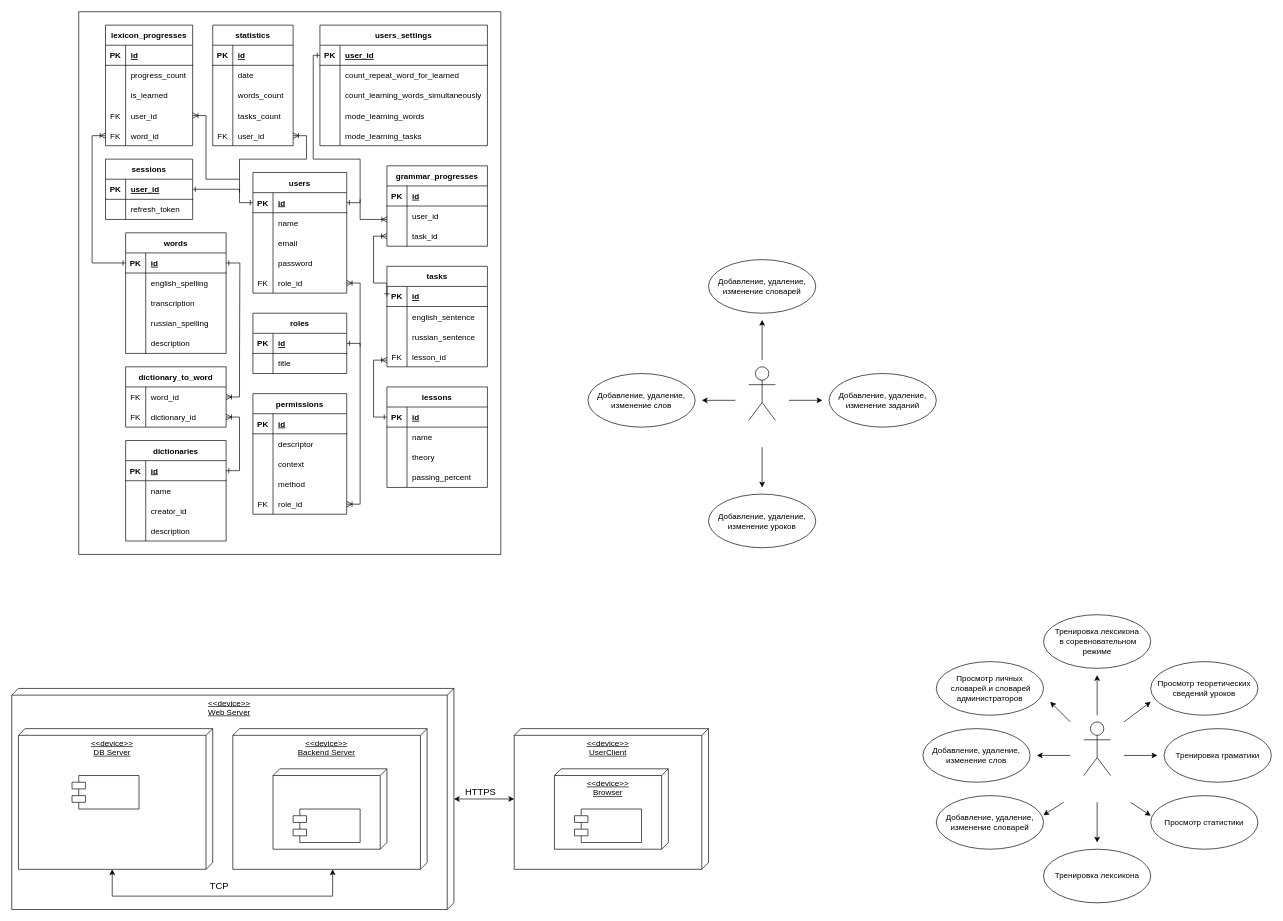
Some shapes in this 1283 by 921 pixel diagram are drawn without their labels. Here are the shapes that lost their labels. From the top down, the centre of each, then its label:
(x=762, y=393): Администратор
(x=1097, y=748): Авторизованный пользователь
(x=105, y=792): PostgreSQL
(x=326, y=825): Nest backend(prisma и тд)
(x=608, y=825): React frontend
